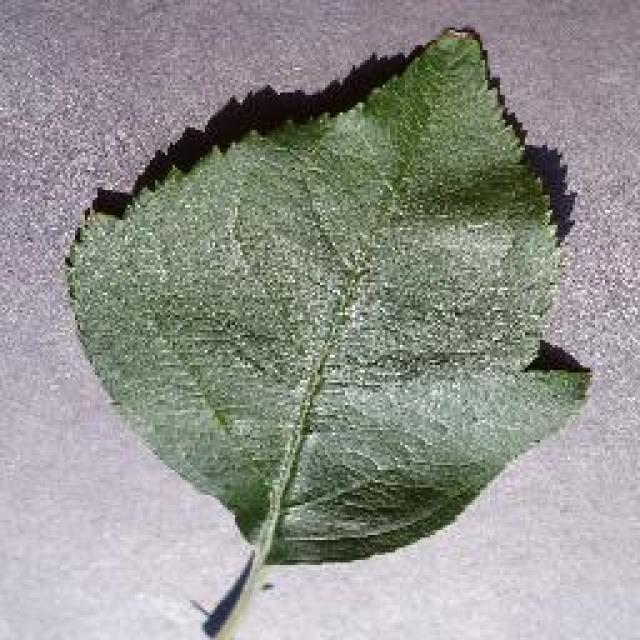apple healthy: (60, 22, 595, 638)
